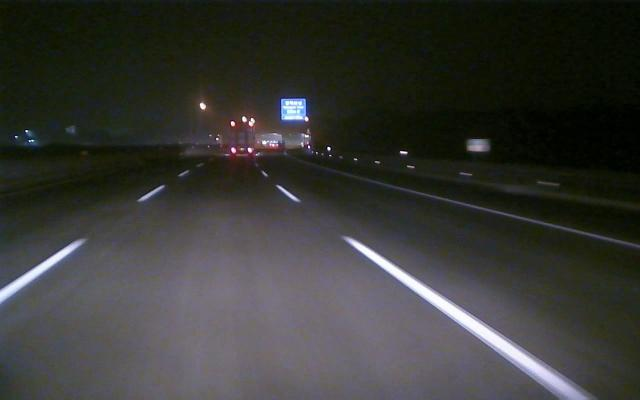lane: (279, 185, 598, 399), (1, 189, 159, 302), (384, 184, 640, 249)
